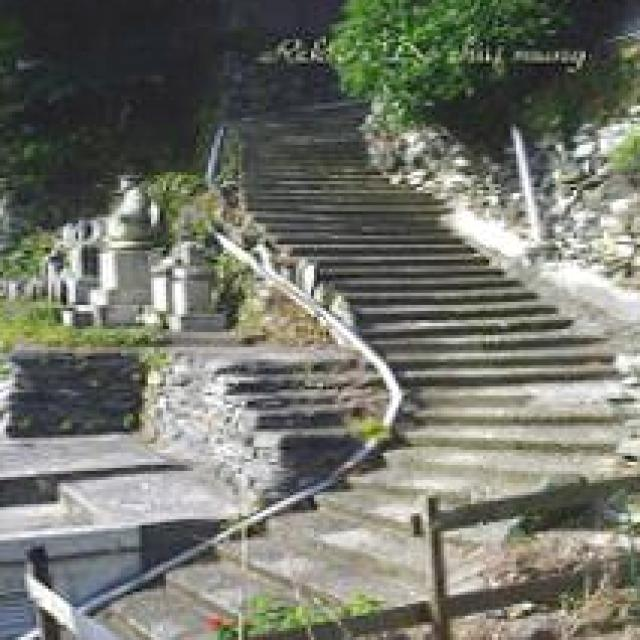upstair: (236, 170, 623, 415)
